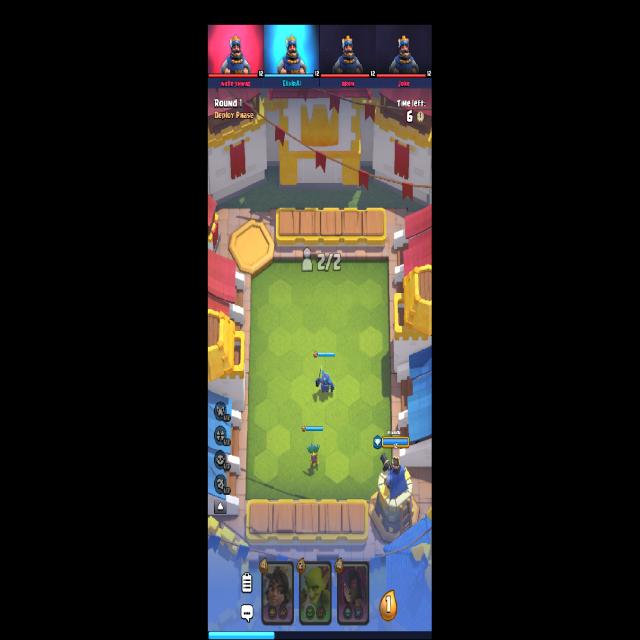card_goblin: (298, 560, 332, 626)
card_princess: (260, 560, 294, 626)
card_witch: (338, 561, 369, 625)
dart_goblin: (306, 443, 321, 471)
mini_pekka: (315, 366, 335, 396)
